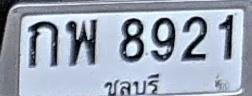1: (218, 14, 234, 60)
2: (181, 15, 207, 60)
8: (119, 17, 144, 62)
9: (151, 17, 175, 61)
A01: (28, 20, 58, 68)
A30: (66, 18, 98, 66)
CBI: (102, 71, 162, 96)
